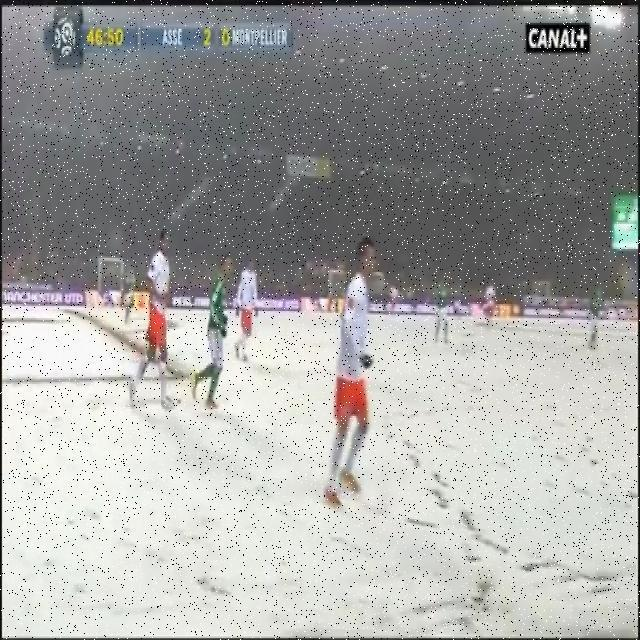player: (311, 216, 379, 470), (124, 232, 178, 410), (192, 250, 238, 429), (232, 252, 273, 384), (573, 264, 609, 354), (433, 266, 455, 360)
